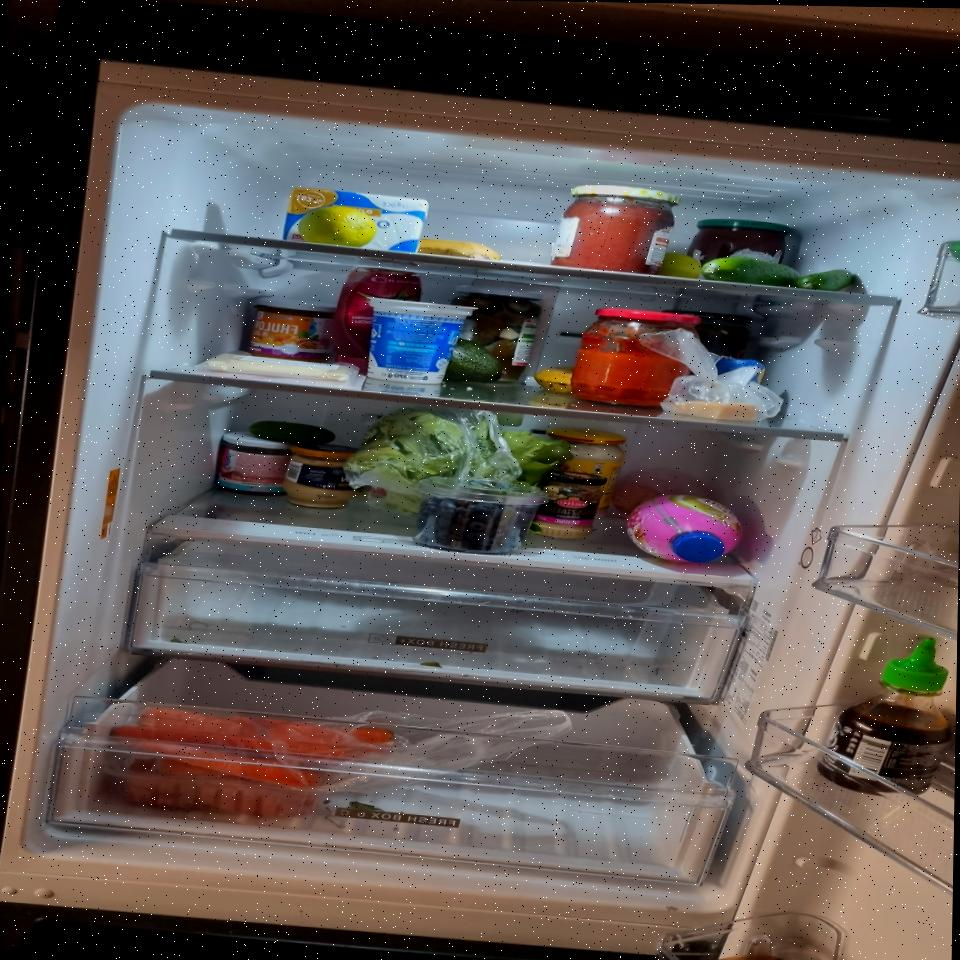Aguacate: (446, 338, 508, 383)
Carne pollo: (121, 758, 320, 818)
Lechuga/Endivia: (344, 404, 574, 518)
Mantequilla: (283, 187, 430, 254)
Pepino: (701, 258, 802, 288), (250, 420, 337, 444), (796, 268, 856, 292)
Plátano: (417, 238, 503, 261), (534, 365, 577, 393)
Queso: (206, 353, 358, 383), (674, 399, 757, 421)
Yogur: (358, 298, 478, 384)
Zanahoria: (109, 707, 396, 789)
blueberries: (412, 476, 548, 556)
lime: (298, 204, 378, 248), (657, 253, 704, 280)
mayonnaise: (544, 427, 627, 518)
mustard: (281, 444, 368, 510), (528, 471, 608, 539)
